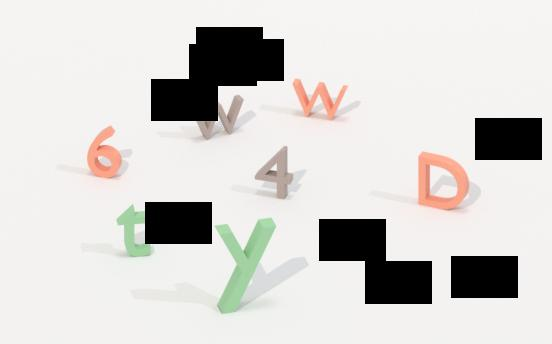4: (250, 143, 298, 201)
6: (84, 125, 128, 181)
Y: (209, 220, 276, 315)
d: (414, 149, 473, 210)
t: (115, 203, 157, 261)
w: (288, 76, 353, 124), (185, 95, 251, 141)
